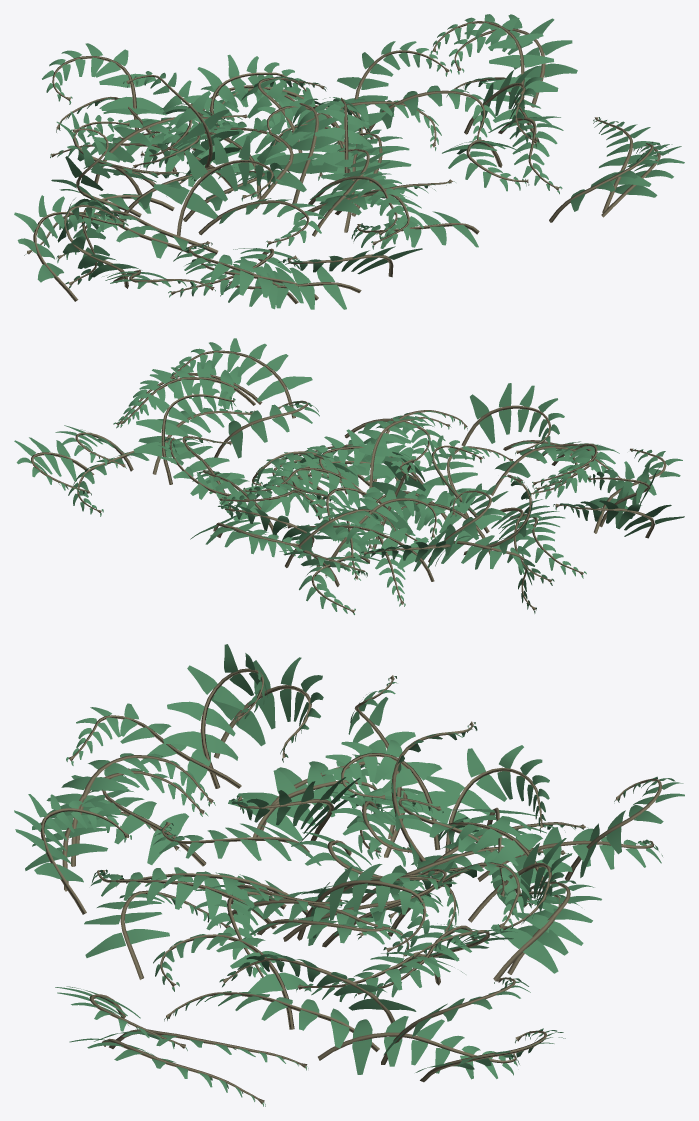
Rendered from Vegetation_Fern_1.fbx.
3 renders of one model, top to bottom at view 1: azimuth 30°, elevation 25°; view 2: azimuth 150°, elevation 25°; view 3: azimuth 270°, elevation 25°, orthographic. The views are drawn at different scales.
Parts seen in each view (by area): view 1: Vegetation_Fern1; view 2: Vegetation_Fern1; view 3: Vegetation_Fern1.
Part boxes in pixels (box(x1,y1,x2,y2)): Vegetation_Fern1: box(14, 14, 684, 309); Vegetation_Fern1: box(14, 338, 684, 614); Vegetation_Fern1: box(14, 644, 684, 1106).
Size of the model in its own units: 423 by 105 by 314.
